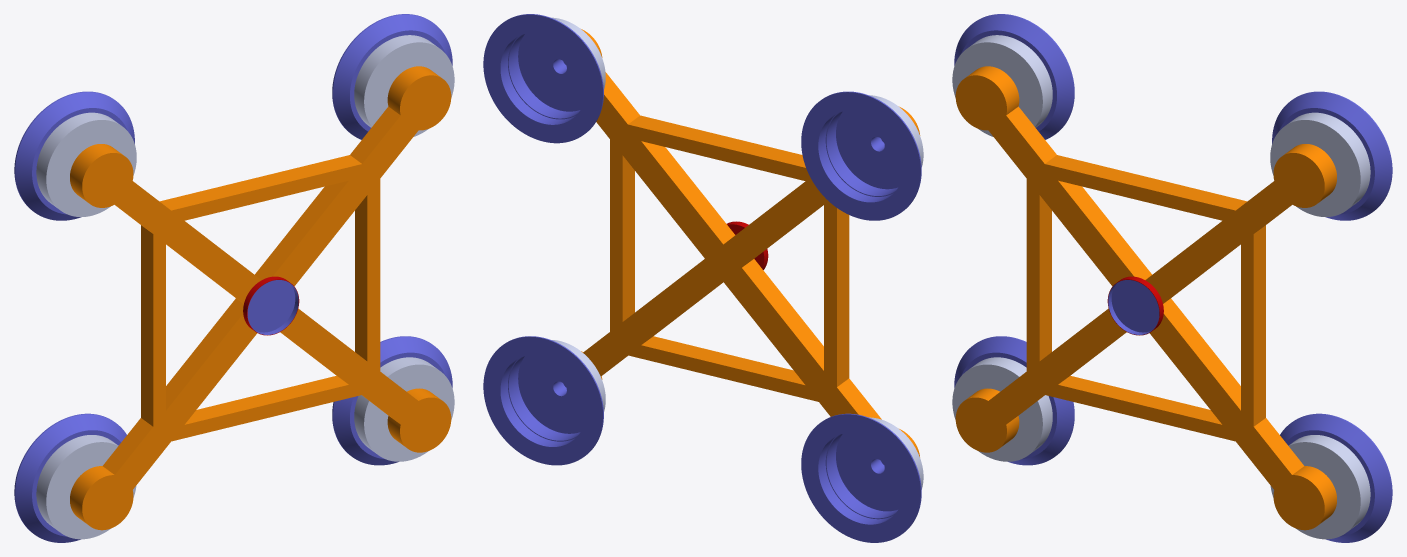
3 renders of one model, left to right at view 1: azimuth 30°, elevation 25°; view 2: azimuth 150°, elevation 25°; view 3: azimuth 330°, elevation 25°, orthographic.
Visible parts, largest first — view 1: 切除-拉伸4; view 2: 切除-拉伸4; view 3: 切除-拉伸4.
Part boxes in pixels (x1,y1,x2,y2): 切除-拉伸4: (14, 14, 454, 542); 切除-拉伸4: (483, 14, 923, 542); 切除-拉伸4: (952, 14, 1392, 542).
Bounding box in the file's own units: 20.14 × 19.68 × 3.19.
